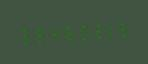four: (45, 22, 58, 45)
nine: (31, 23, 44, 46), (115, 17, 128, 40)
one: (101, 18, 114, 41)
six: (59, 21, 72, 44)
three: (17, 23, 30, 47)
two: (87, 19, 100, 42)
zero: (73, 20, 86, 43)
